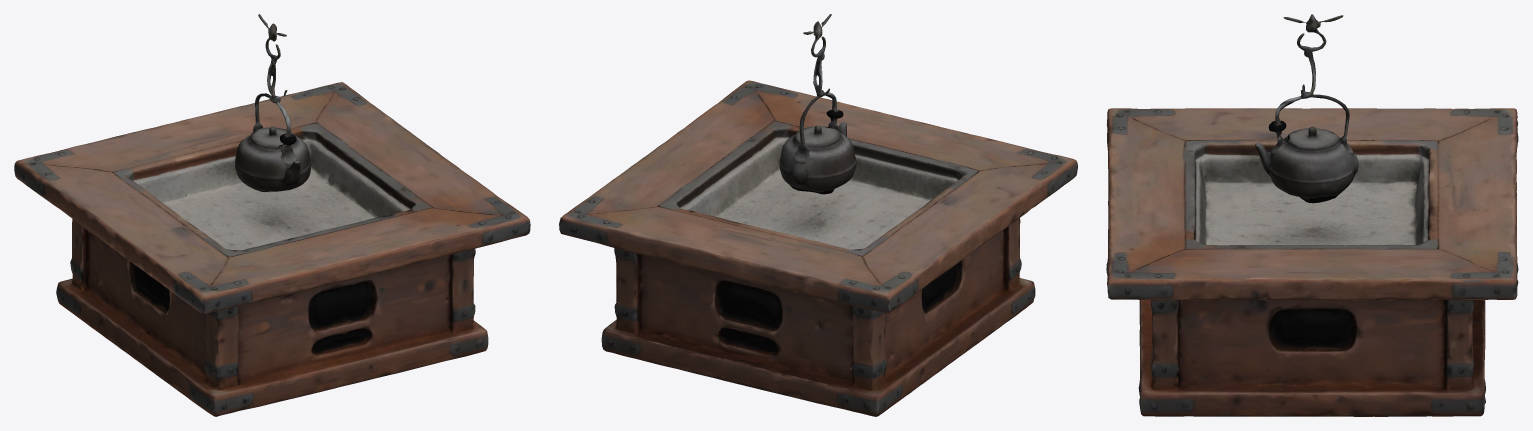
The picture shows the model from 3 angles, left to right: view 1: azimuth 30°, elevation 25°; view 2: azimuth 150°, elevation 25°; view 3: azimuth 270°, elevation 25°; orthographic projection. The views are drawn at different scales.
Parts seen in each view (by area): view 1: Mesh_0; view 2: Mesh_0; view 3: Mesh_0.
Boxes of the visible parts, x1,y1,x2,y2 form: Mesh_0: [14, 14, 530, 416]; Mesh_0: [559, 14, 1077, 416]; Mesh_0: [1106, 14, 1518, 416].
Bounding box in the file's own units: 0.5089 × 0.45 × 0.5061.
1 material, 1 textured.
